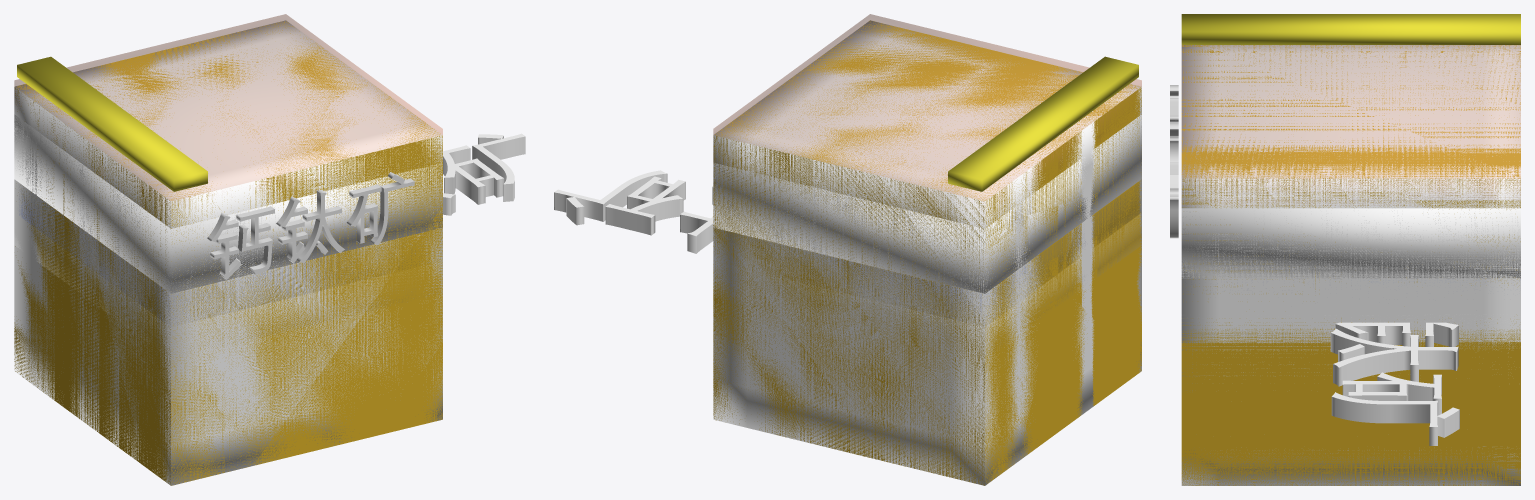
Rendered from 钙钛矿.glb.
3 renders of one model, left to right at view 1: azimuth 30°, elevation 25°; view 2: azimuth 150°, elevation 25°; view 3: azimuth 270°, elevation 25°, orthographic. The views are drawn at different scales.
Parts seen in each view (by area): view 1: Cube, Cube.004, Cube.013, Cube.012, Cube.014, Text.001, Text, Cube.011; view 2: Cube, Cube.004, Cube.013, Cube.012, Cube.014, Text, Cube.011, Cube.010; view 3: Cube, Cube.004, Cube.013, Cube.012, Text, Cube.014, Text.001.
Boxes of the visible parts, x1,y1,x2,y2 form: Cube: (14, 20, 442, 485); Cube.004: (14, 21, 442, 485); Cube.013: (14, 14, 442, 202); Cube.012: (14, 114, 442, 293); Cube.014: (17, 56, 207, 191); Text.001: (207, 172, 414, 279); Text: (443, 133, 525, 215); Cube.011: (19, 196, 367, 321); Cube: (713, 20, 1141, 485); Cube.004: (713, 21, 1141, 485); Cube.013: (713, 14, 1141, 200); Cube.012: (713, 114, 1141, 293); Cube.014: (948, 56, 1138, 191); Text: (554, 170, 713, 253); Cube.011: (806, 185, 1140, 317); Cube.010: (823, 215, 1141, 339); Cube: (1181, 45, 1520, 485); Cube.004: (1181, 45, 1520, 485); Cube.013: (1182, 45, 1520, 205); Cube.012: (1181, 208, 1520, 278); Text: (1330, 322, 1459, 445); Cube.014: (1181, 14, 1520, 44); Text.001: (1170, 85, 1178, 238).
Bounding box in the file's own units: 3.45 × 2.15 × 2.07.
